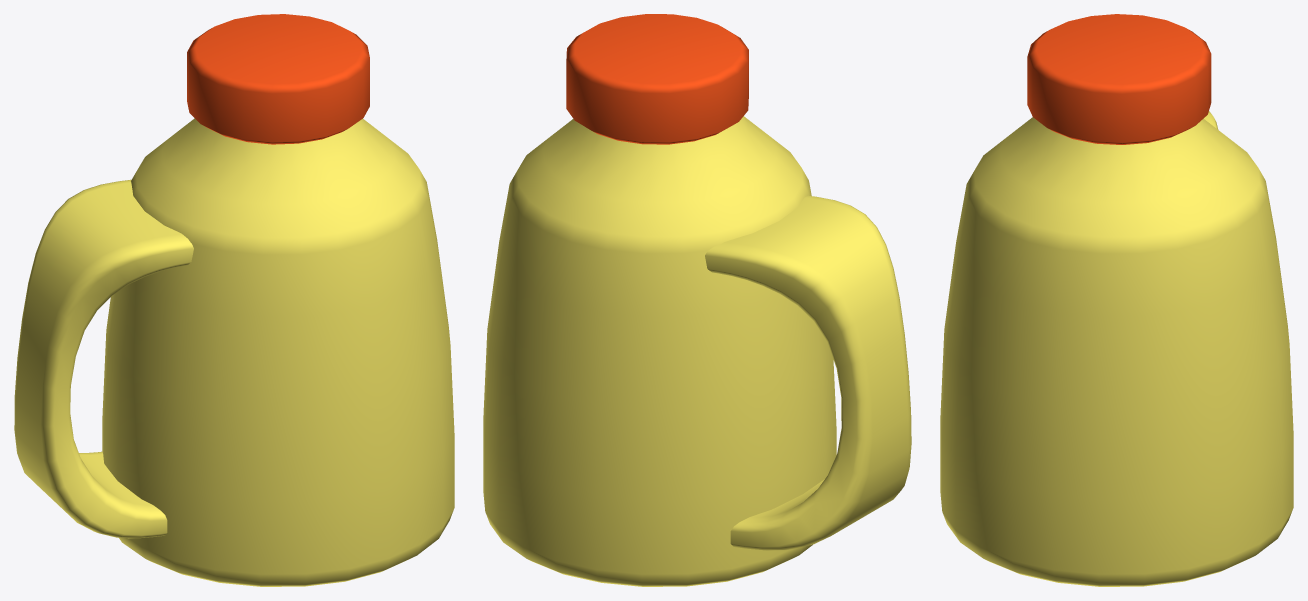
File: Town_5_Bottle_1.glb
3 renders of one model, left to right at view 1: azimuth 30°, elevation 25°; view 2: azimuth 150°, elevation 25°; view 3: azimuth 270°, elevation 25°, orthographic.
Parts seen in each view (by area): view 1: Town_5_Bottle_1; view 2: Town_5_Bottle_1; view 3: Town_5_Bottle_1.
Boxes of the visible parts, left/top/right/bottom form: Town_5_Bottle_1: left=14, top=14, right=454, bottom=586; Town_5_Bottle_1: left=483, top=14, right=911, bottom=586; Town_5_Bottle_1: left=940, top=14, right=1293, bottom=586.
Size of the model in its own units: 0.3814 by 0.4332 by 0.2952.
1 material, 1 textured.
